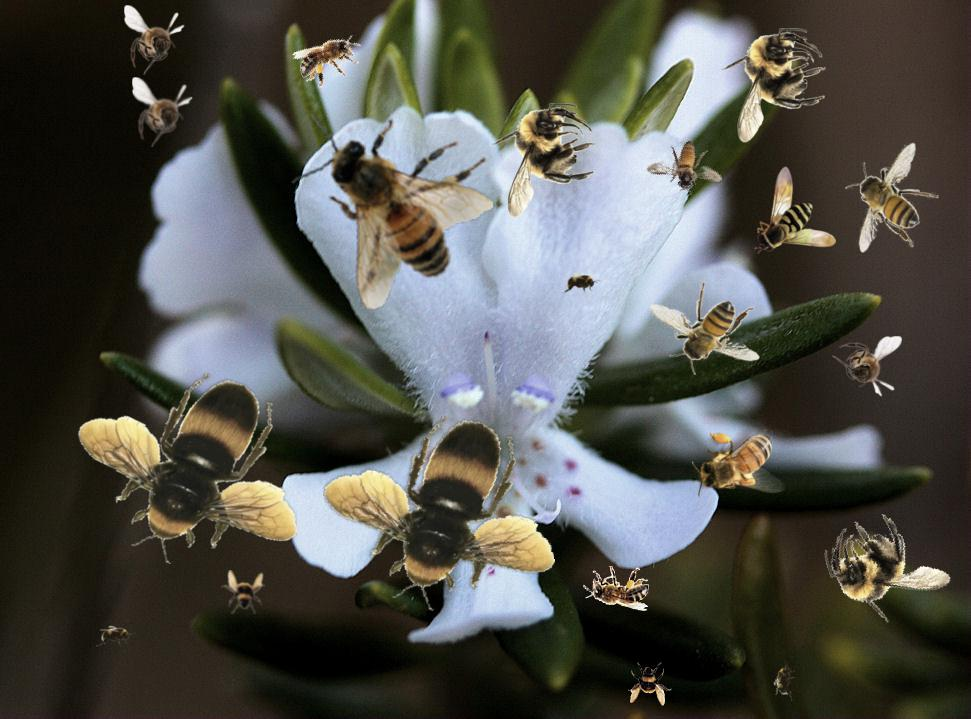Bee: (314, 403, 560, 624), (280, 89, 507, 319), (77, 373, 297, 564), (816, 499, 959, 636), (489, 103, 596, 218), (719, 28, 826, 143), (845, 142, 939, 253), (649, 281, 760, 375), (754, 166, 836, 254), (644, 127, 732, 208), (692, 429, 785, 497), (290, 22, 370, 95), (832, 336, 902, 397), (132, 77, 193, 147), (124, 5, 185, 75), (583, 566, 649, 611), (628, 662, 672, 706), (221, 570, 265, 614), (770, 658, 800, 702), (96, 625, 136, 647), (561, 272, 601, 294)
